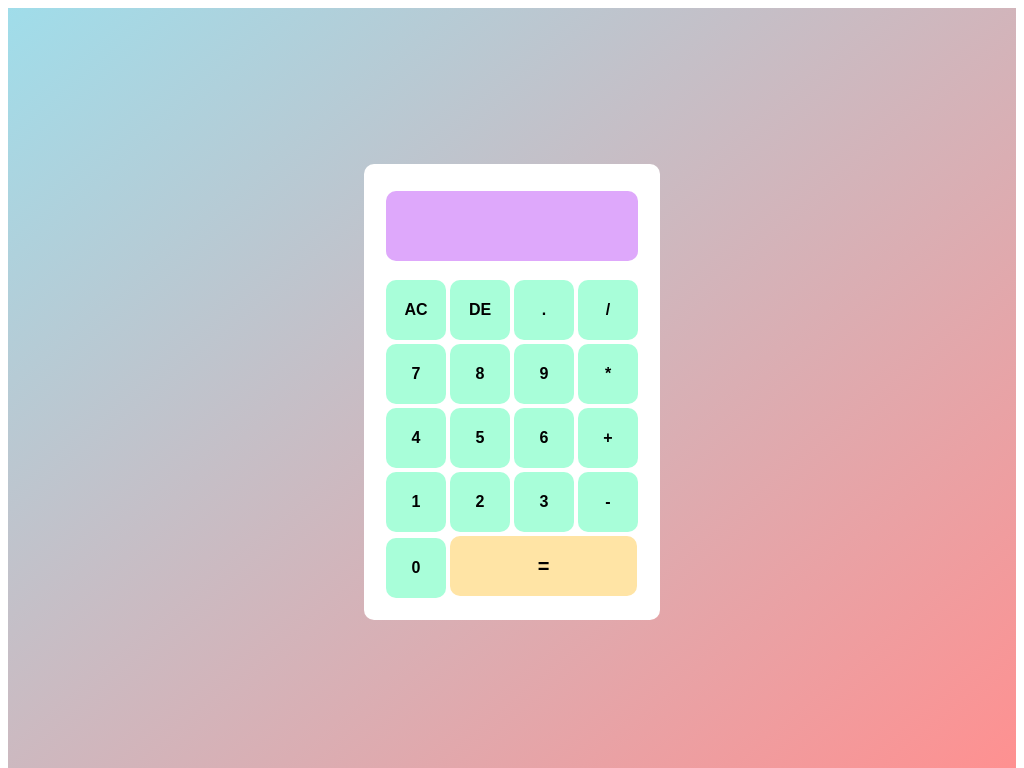
Scenario: Calculatrice › Calcule correctement les expressions
Step 1. Click the button "7" → (416, 374), box [386, 344, 446, 404]
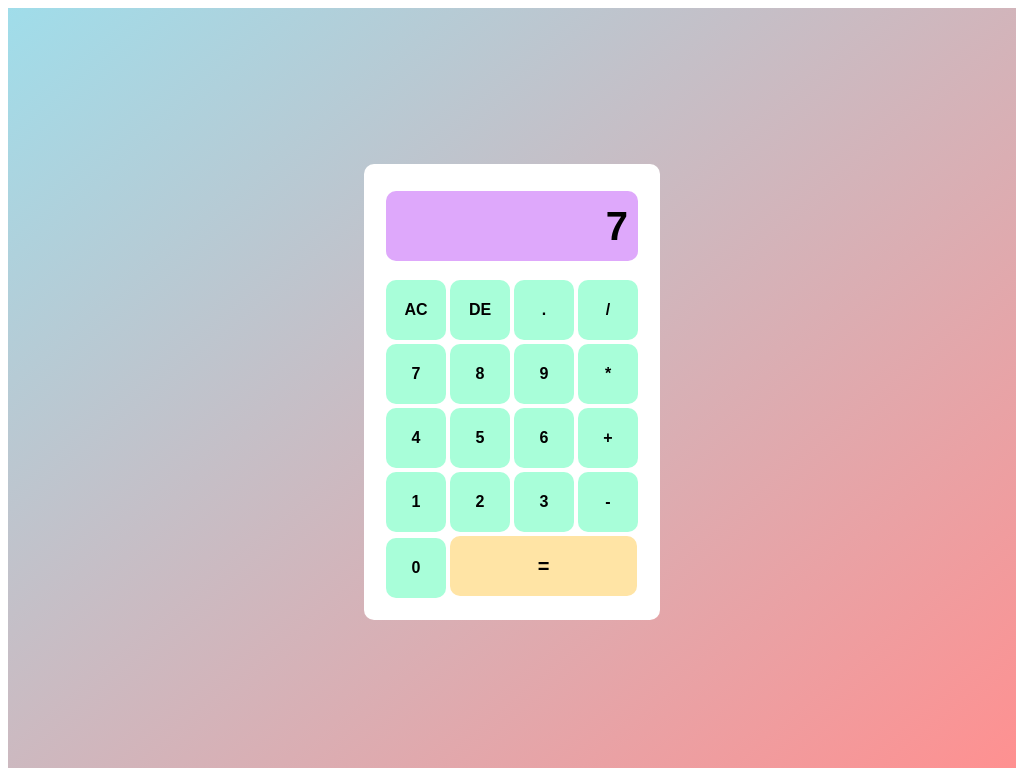
Step 2. Click the button "+" → (608, 438), box [578, 408, 638, 468]
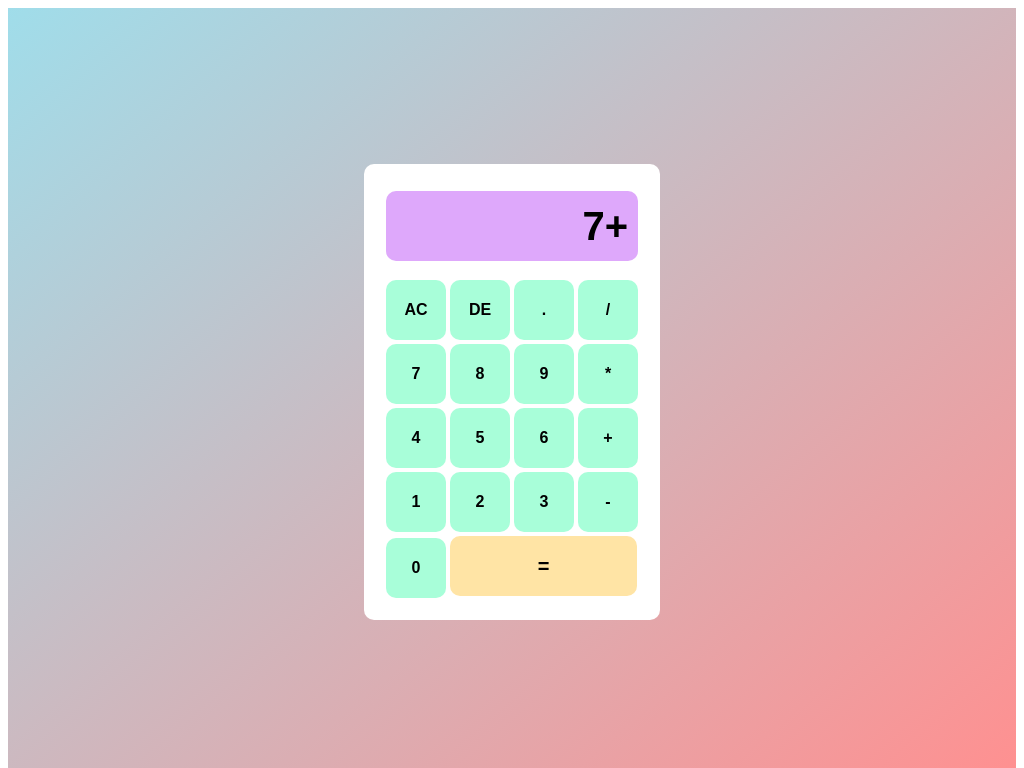
Step 3. Click the button "3" → (544, 502), box [514, 472, 574, 532]
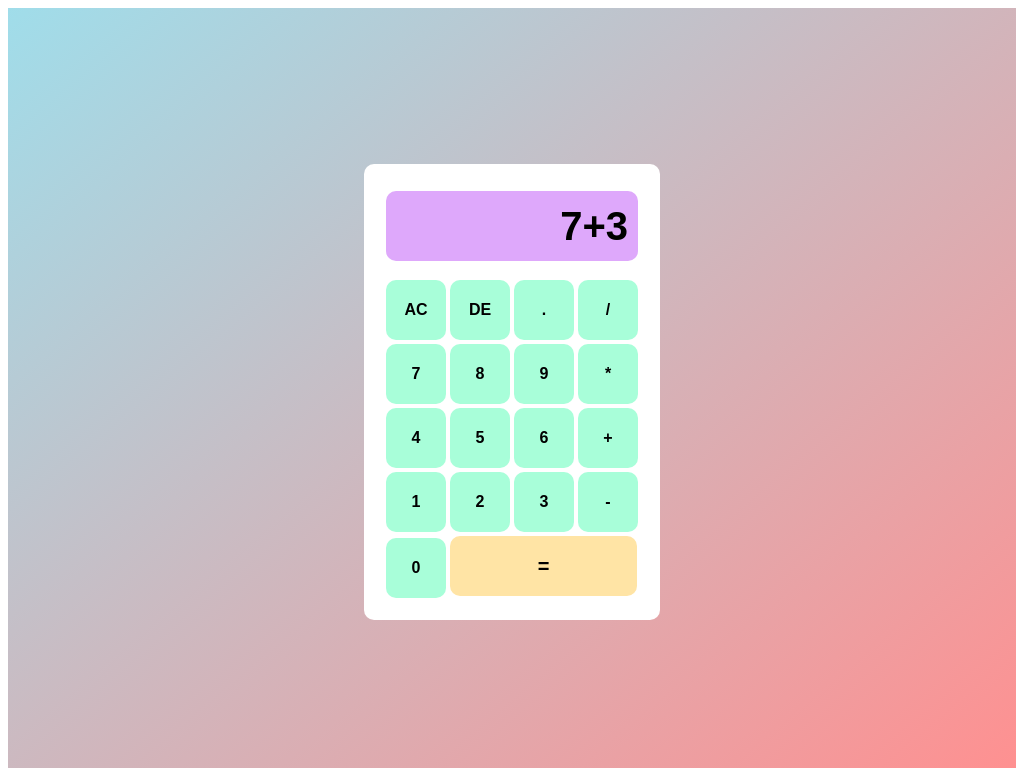
Step 4. Click the button "=" → (544, 566), box [450, 536, 637, 596]
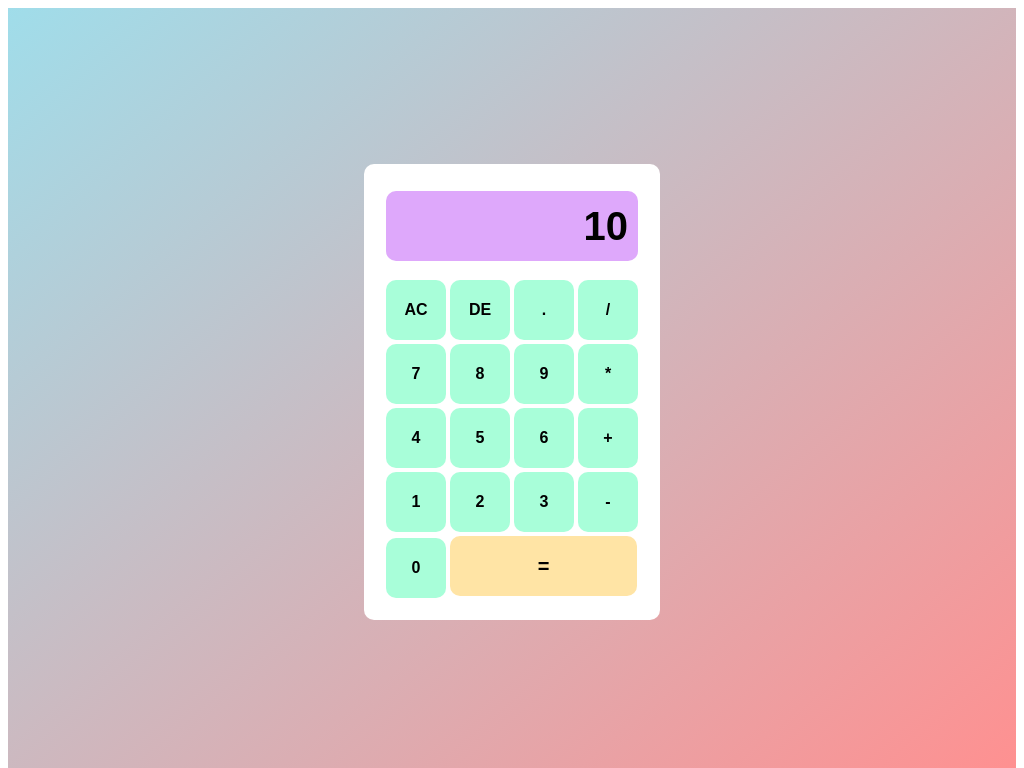
Check: the field holds "10", box [386, 191, 638, 261]
